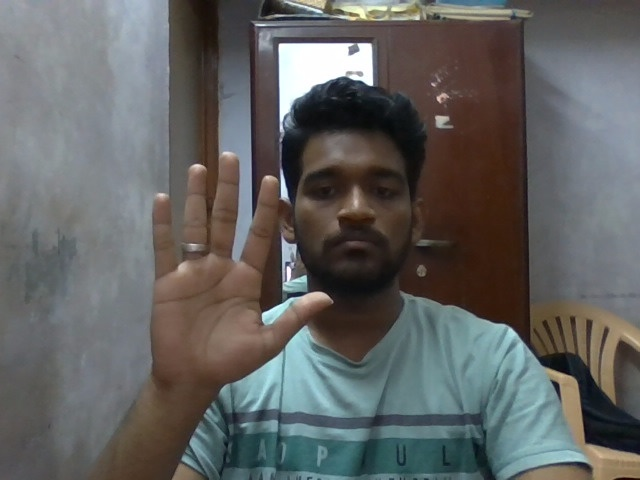Hello: (138, 143, 335, 398)
